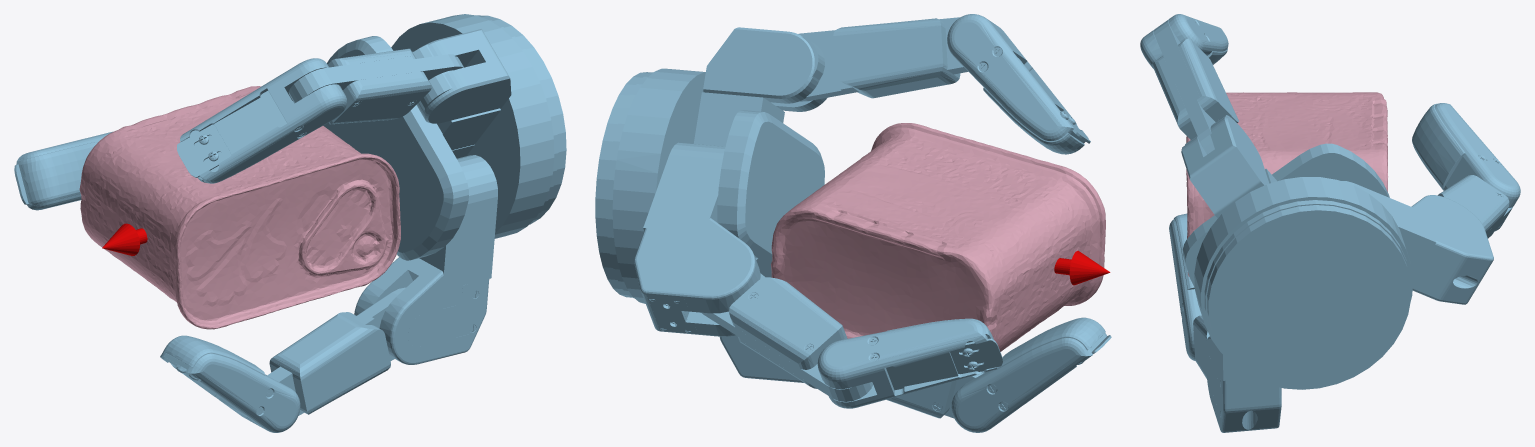
3 views of the same model, side by side, from view 1: azimuth 30°, elevation 25°; view 2: azimuth 150°, elevation 25°; view 3: azimuth 270°, elevation 25° (orthographic). The views are drawn at different scales.
Parts seen in each view (by area): view 1: world, potted_meat_can.stl; view 2: world, potted_meat_can.stl; view 3: world, potted_meat_can.stl.
Boxes of the visible parts, x1,y1,x2,y2 form: world: (14, 14, 566, 432); potted_meat_can.stl: (79, 86, 400, 329); world: (595, 14, 1111, 432); potted_meat_can.stl: (771, 123, 1105, 351); world: (1140, 14, 1520, 432); potted_meat_can.stl: (1186, 92, 1388, 276).
Size of the model in its own units: 0.2001 by 0.1613 by 0.1573.
